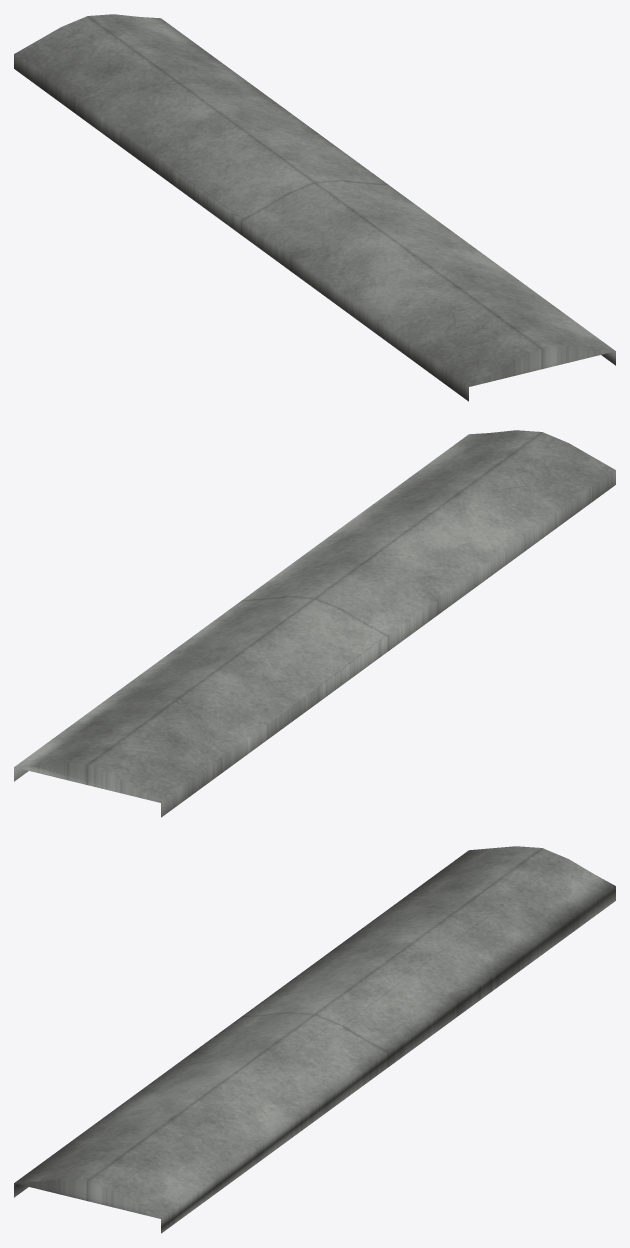
The model's file is RES_SpeedHump_4p5m.obj.
3 renders of one model, top to bottom at view 1: azimuth 30°, elevation 25°; view 2: azimuth 150°, elevation 25°; view 3: azimuth 330°, elevation 25°, orthographic.
Visible parts, largest first — view 1: RES_SpeedHump_4p5m; view 2: RES_SpeedHump_4p5m; view 3: RES_SpeedHump_4p5m.
Boxes of the visible parts, bbox=[...] form: RES_SpeedHump_4p5m: bbox=[14, 14, 615, 401]; RES_SpeedHump_4p5m: bbox=[14, 430, 615, 817]; RES_SpeedHump_4p5m: bbox=[14, 846, 615, 1233].
Bounding box in the file's own units: 0.84 × 0.19 × 4.5.
1 material, 1 textured.
